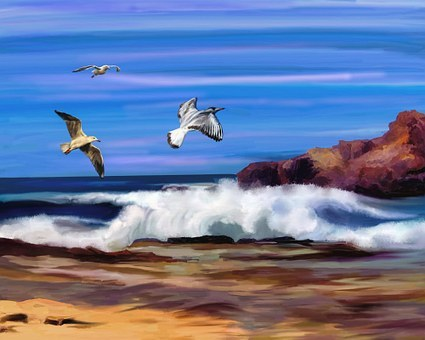bird: (47, 105, 115, 183), (160, 92, 232, 155), (70, 56, 127, 85)
